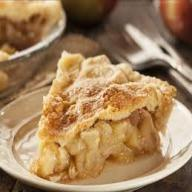apple: (150, 1, 190, 47)
